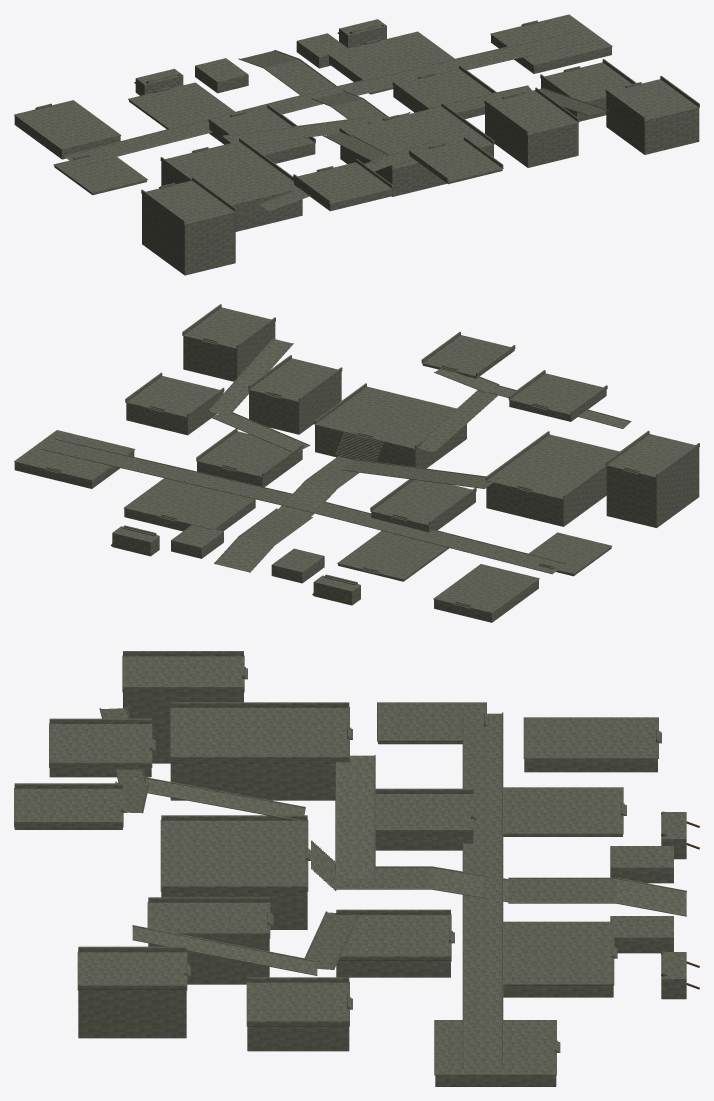
Rendered from port_civilworks.glb.
3 views of the same model, one above another, from view 1: azimuth 30°, elevation 25°; view 2: azimuth 150°, elevation 25°; view 3: azimuth 270°, elevation 25° (orthographic). The views are drawn at different scales.
Visible parts, largest first — view 1: retained_plot_building_warehouse; view 2: retained_plot_building_warehouse; view 3: retained_plot_building_warehouse.
Boxes of the visible parts, box(x1,y1,x2,y2) form: retained_plot_building_warehouse: box(14, 14, 699, 275); retained_plot_building_warehouse: box(14, 304, 699, 622); retained_plot_building_warehouse: box(14, 651, 686, 1086).
Size of the model in its own units: 138 by 17.3 by 108.
2 materials, 2 textured.
